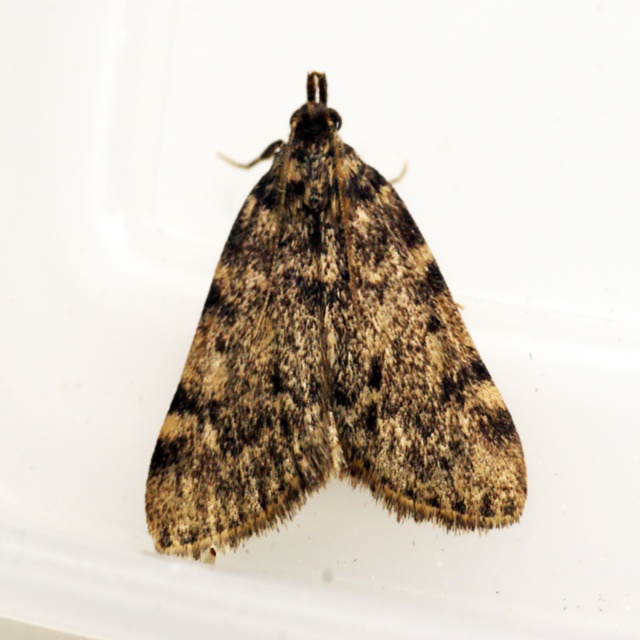Butterfly: (143, 72, 528, 561)
